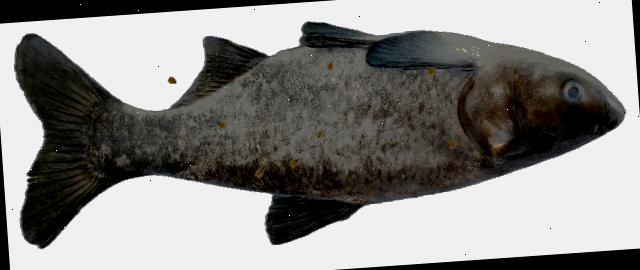Parasitic Disease: (14, 21, 623, 246)
